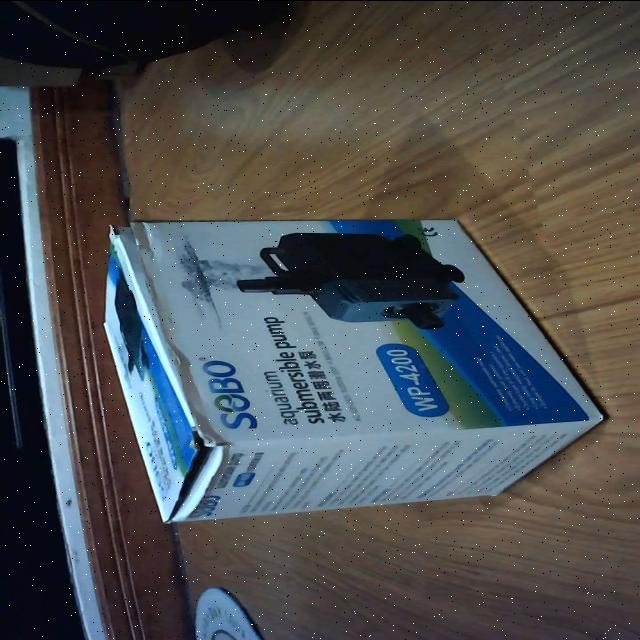SOBO_WP_4200: (89, 207, 610, 528)
